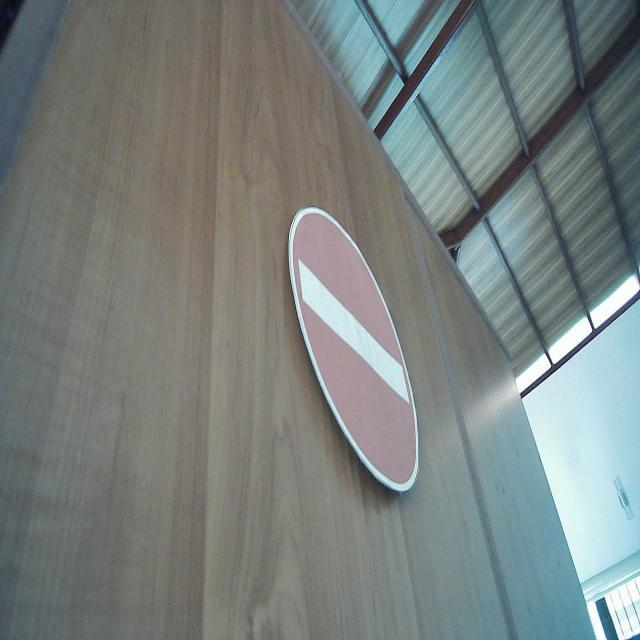no_entry: (286, 202, 421, 496)
